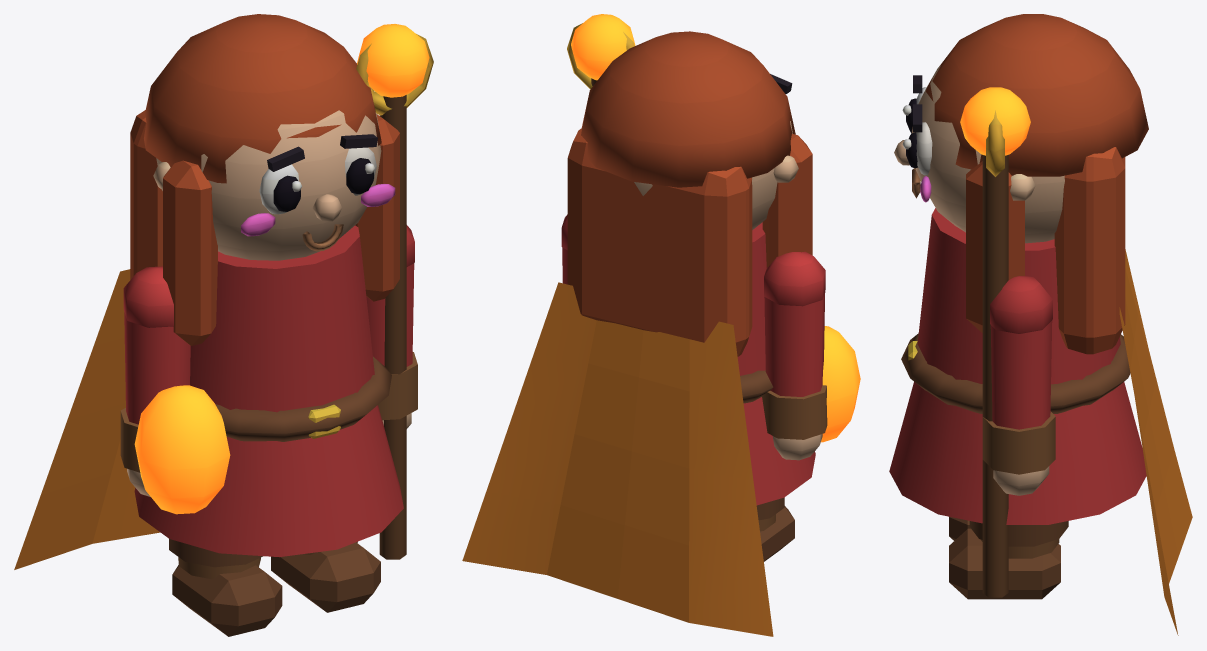
The model's file is hero_aurelle.glb.
3 views of the same model, side by side, from view 1: azimuth 30°, elevation 25°; view 2: azimuth 150°, elevation 25°; view 3: azimuth 270°, elevation 25° (orthographic). The views are drawn at different scales.
Parts seen in each view (by area): view 1: body_t0_palette, armr_t0_palette, arml_t0_fire, arml_t0_palette, legl_t0_palette, legr_t0_palette, armr_t0_fire; view 2: body_t0_palette, arml_t0_palette, arml_t0_fire, armr_t0_fire, legl_t0_palette, armr_t0_palette; view 3: body_t0_palette, armr_t0_palette, legr_t0_palette, armr_t0_fire.
Part boxes in pixels (x1=…): body_t0_palette: x1=14, y1=14, x2=403, y2=569; armr_t0_palette: x1=356, y1=34, x2=433, y2=559; arml_t0_fire: x1=134, y1=385, x2=230, y2=514; arml_t0_palette: x1=120, y1=266, x2=190, y2=496; legl_t0_palette: x1=169, y1=539, x2=282, y2=636; legr_t0_palette: x1=271, y1=541, x2=380, y2=612; armr_t0_fire: x1=357, y1=24, x2=429, y2=97; body_t0_palette: x1=462, y1=31, x2=815, y2=636; arml_t0_palette: x1=762, y1=251, x2=827, y2=460; arml_t0_fire: x1=821, y1=326, x2=860, y2=442; armr_t0_fire: x1=571, y1=14, x2=635, y2=80; legl_t0_palette: x1=756, y1=497, x2=794, y2=561; armr_t0_palette: x1=561, y1=23, x2=634, y2=284; body_t0_palette: x1=889, y1=14, x2=1192, y2=635; armr_t0_palette: x1=982, y1=110, x2=1055, y2=597; legr_t0_palette: x1=949, y1=521, x2=1068, y2=599; armr_t0_fire: x1=960, y1=87, x2=1030, y2=155.
Size of the model in its own units: 0.32 by 0.508 by 0.257.
